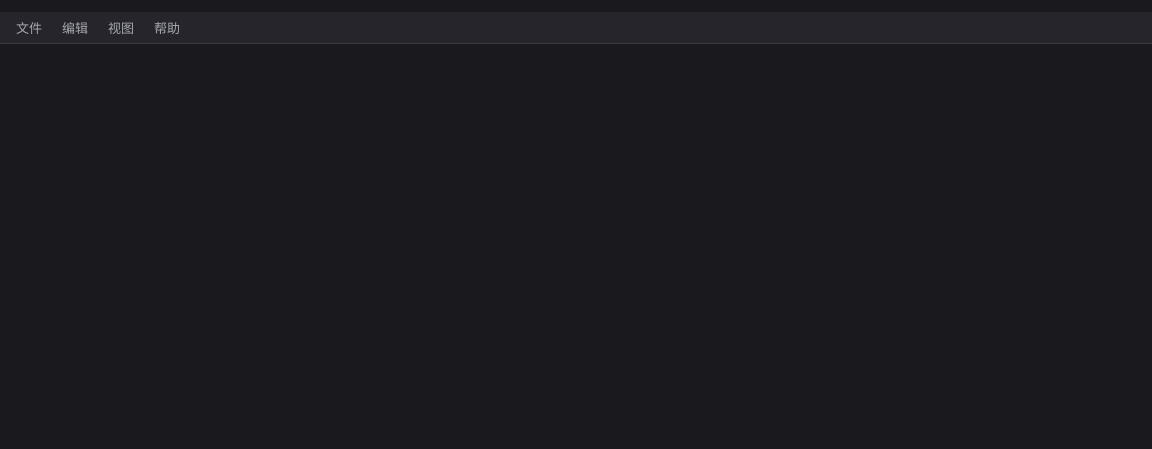
Test case: AppMenuBar › clicking 文件 again toggles it off
This screenshot has width=1152, height=449.
Step 1. Click the button with class "menu-dropdown__trigger" showing "文件" → (29, 28), box [8,14,50,40]
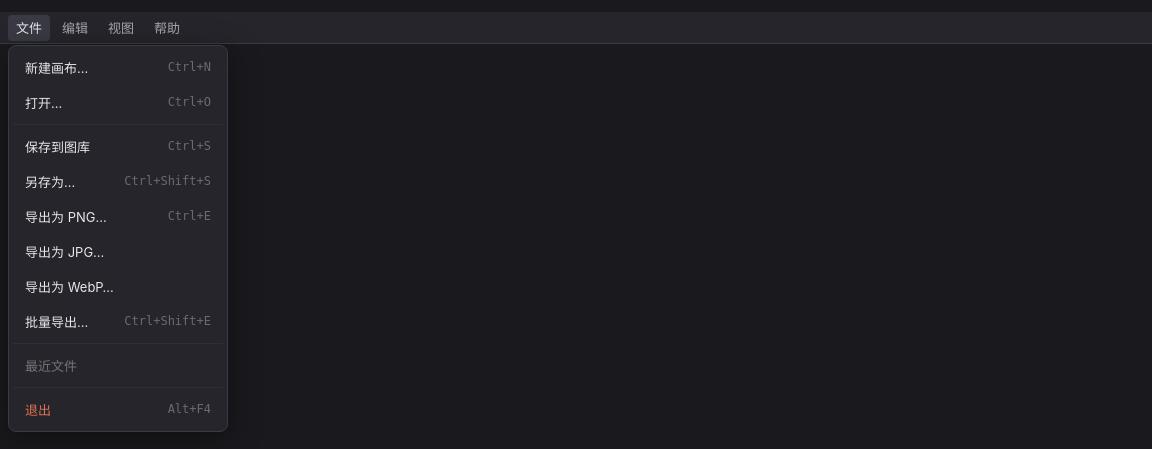
Step 2. Click the button with class "menu-dropdown__trigger" showing "文件" → (29, 28), box [8,14,50,40]
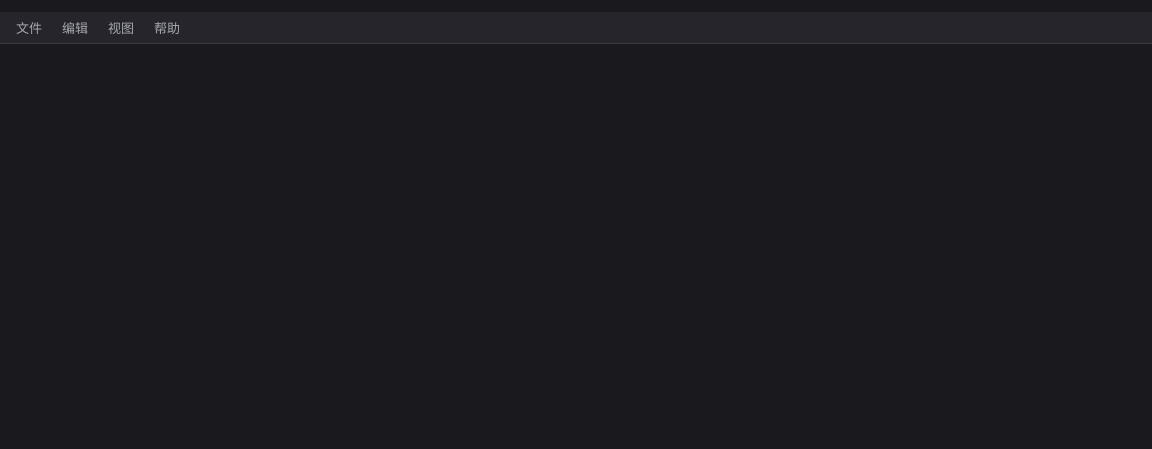
Expected: no menus are shown
